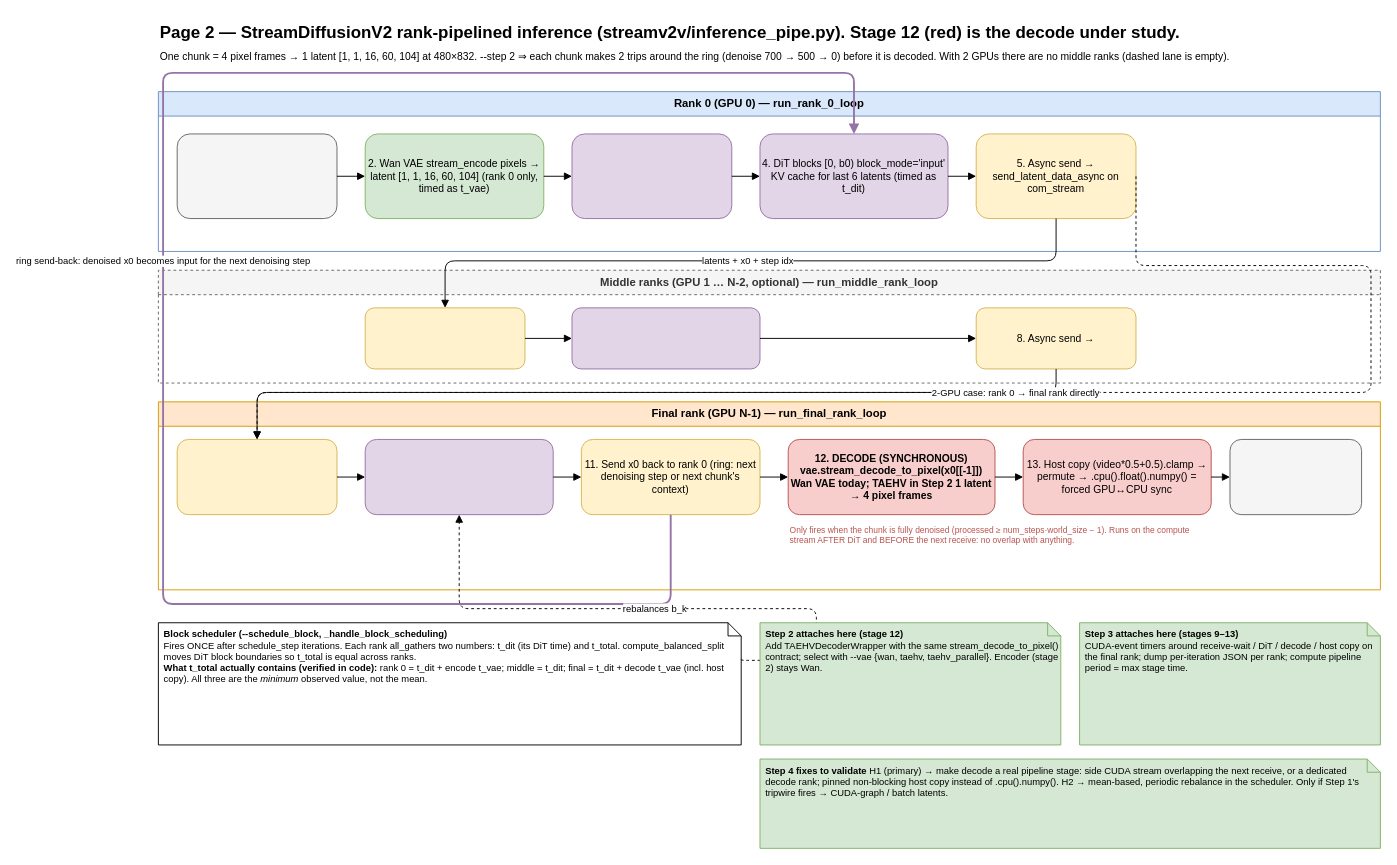
Image size: 1397x865. Some labels were removed from this diagram. Here are the shapes that lost their labels. From the top down, the centre of each, then its label:
the point at 256,176: 1. Load 4-frame chunk (load_mp4_as_tensor / webcam) [1, 4, 3, 480, 832]
the point at 651,176: 3. Noise blend mix latent with noise at timestep 700 (noise_scale)
the point at 444,338: 6. Receive ← (wait on com_stream)
the point at 665,338: 7. DiT blocks [b_i, b_i+1) (timed as t_dit)
the point at 256,477: 9. Receive ← receive_latent_data_async then wait_stream(com_stream)
the point at 458,477: 10. DiT blocks [b_k, 30) block_mode='output' → x0 prediction (timed as t_dit)
the point at 1295,477: results[i] → mp4 / browser
